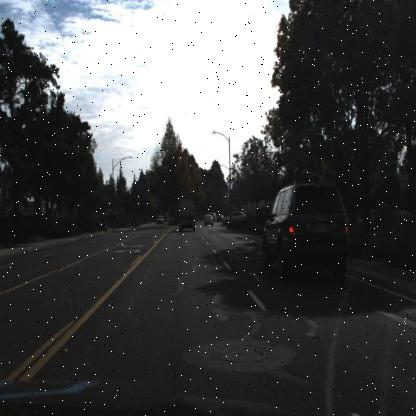car: (257, 176, 355, 282), (178, 192, 200, 236), (220, 210, 247, 227), (202, 209, 215, 228)
truck: (176, 193, 198, 235)
